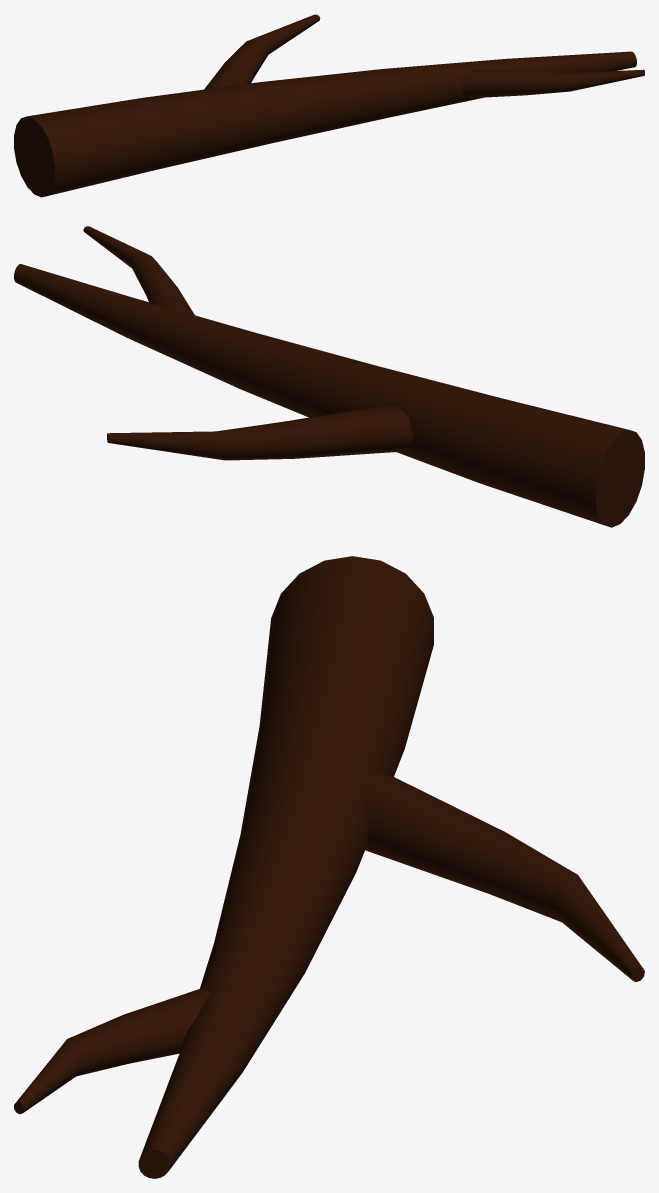
File: dead tree.FBX
3 views of the same model, one above another, from view 1: azimuth 30°, elevation 25°; view 2: azimuth 150°, elevation 25°; view 3: azimuth 270°, elevation 25° (orthographic). The views are drawn at different scales.
Visible parts, largest first — view 1: broken tree; view 2: broken tree; view 3: broken tree.
Boxes of the visible parts, x1,y1,x2,y2 form: broken tree: [14, 14, 644, 197]; broken tree: [14, 226, 644, 527]; broken tree: [14, 556, 644, 1178].
Bounding box in the file's own units: 133 × 17.47 × 66.6.
